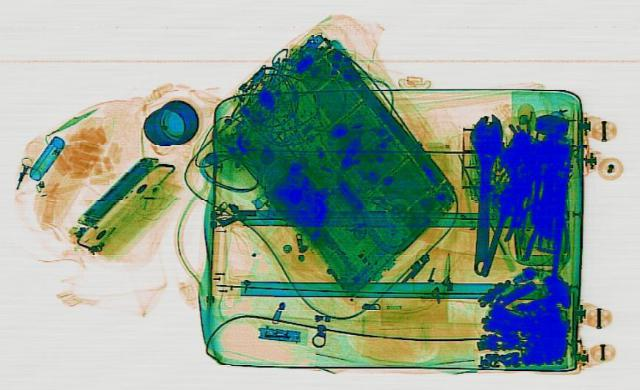Wrench: (463, 112, 503, 274)
